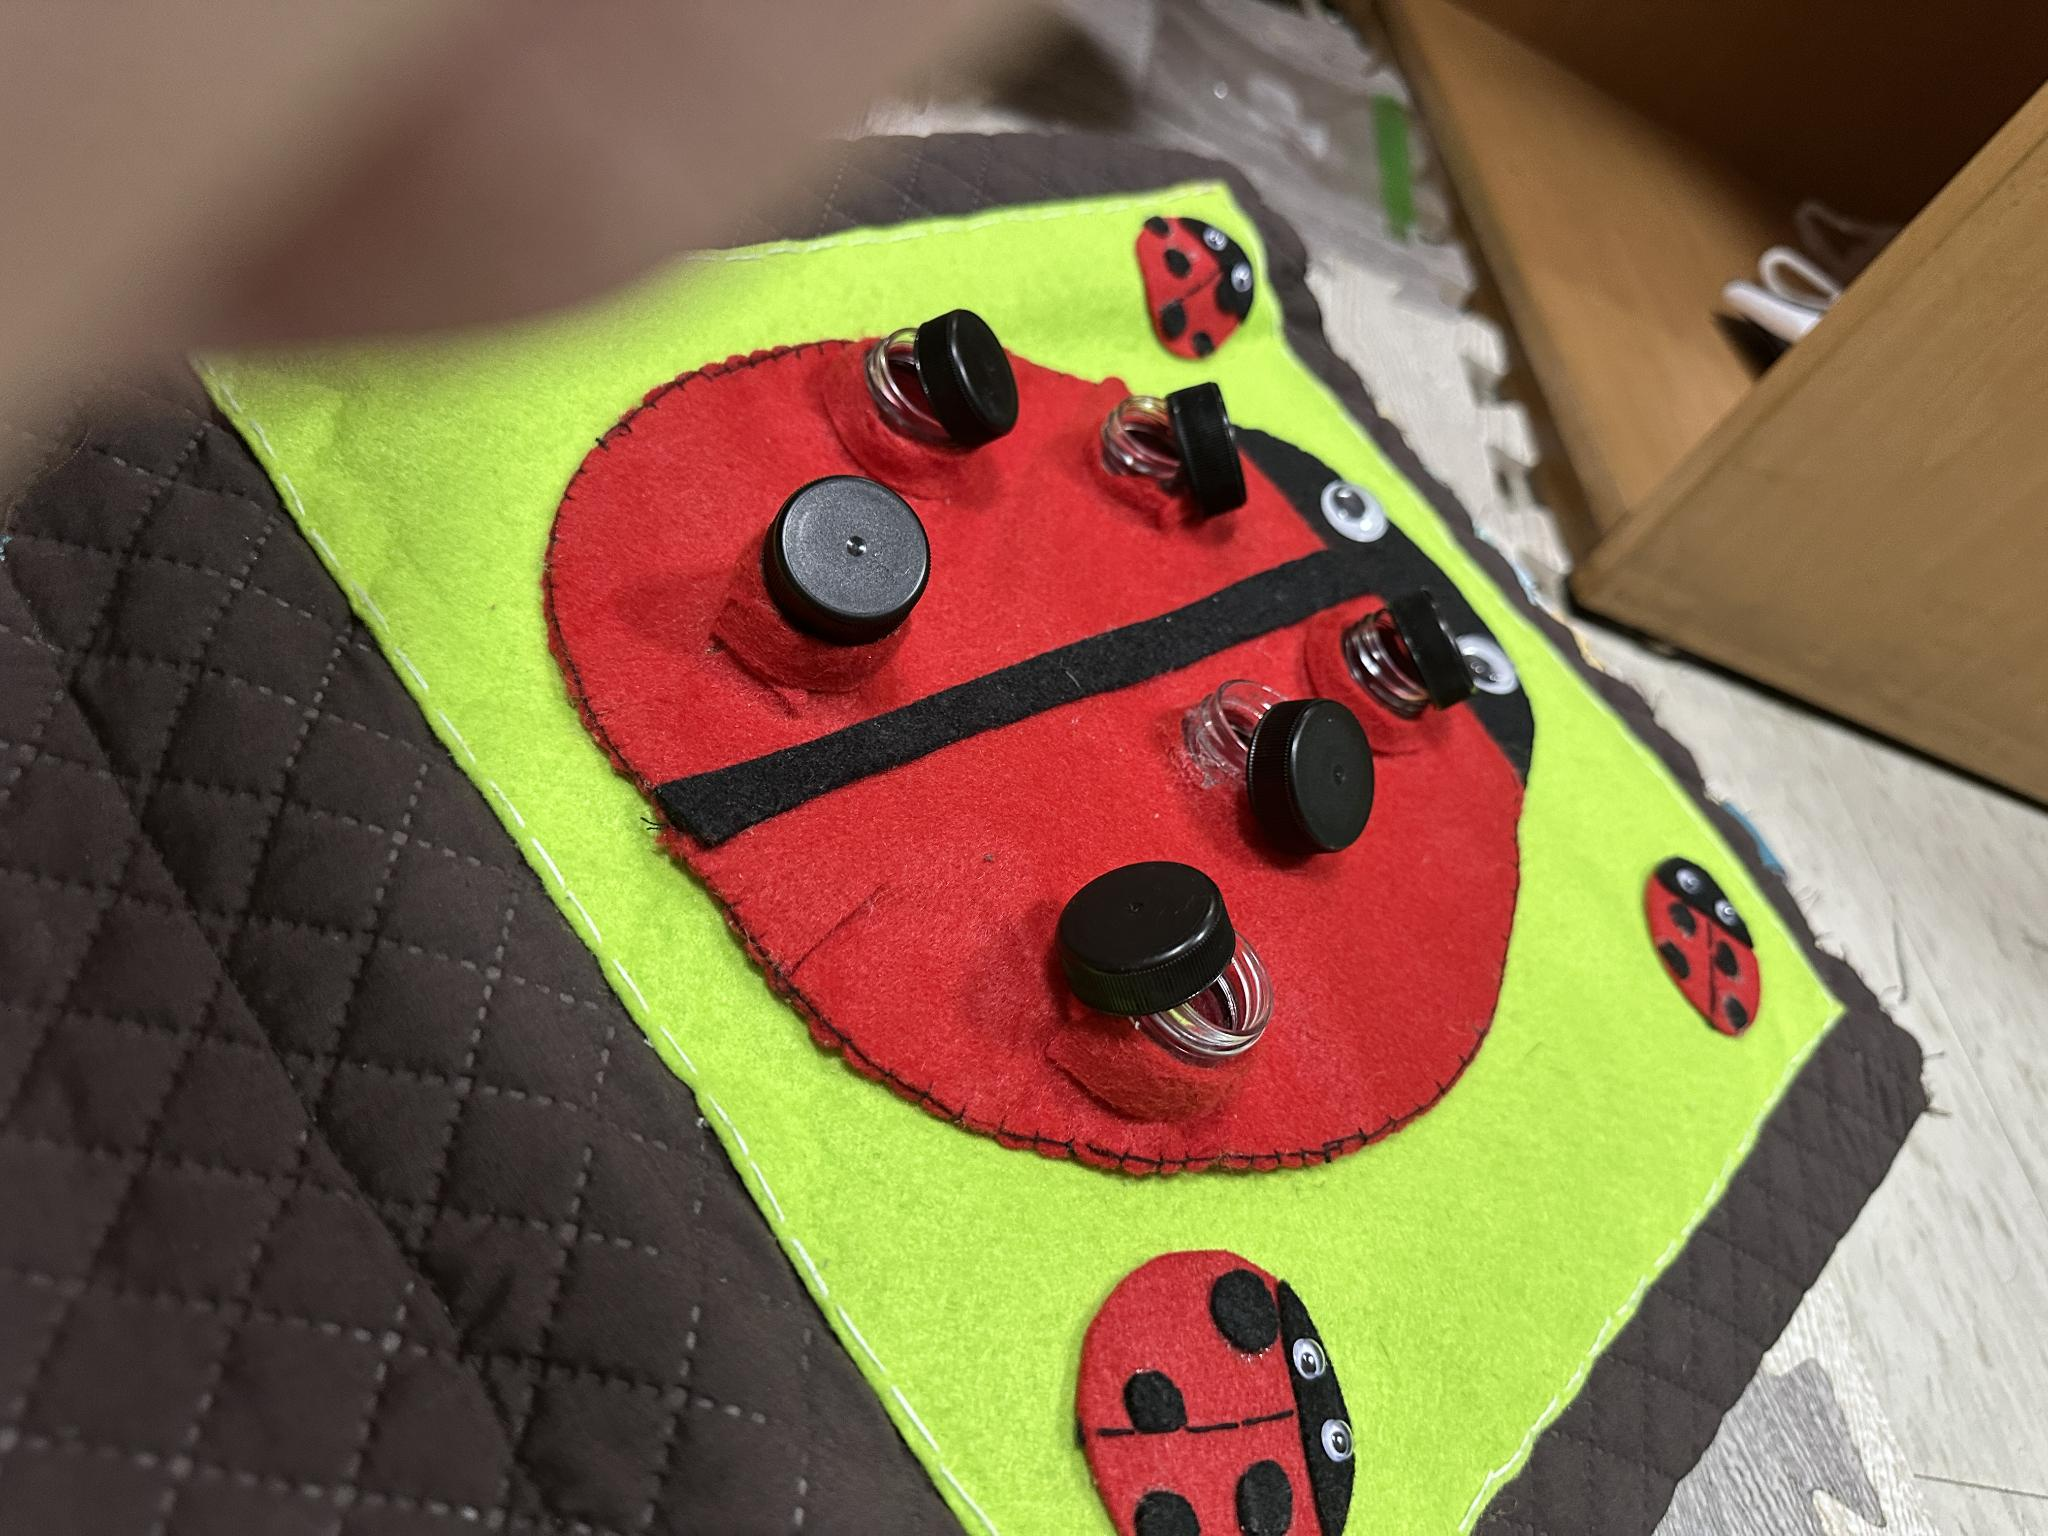cap_ng: (993, 831, 1303, 1109), (1174, 656, 1390, 868), (1079, 377, 1273, 549), (854, 306, 1044, 468), (1342, 582, 1490, 742)
cap_ok: (714, 478, 964, 696)
